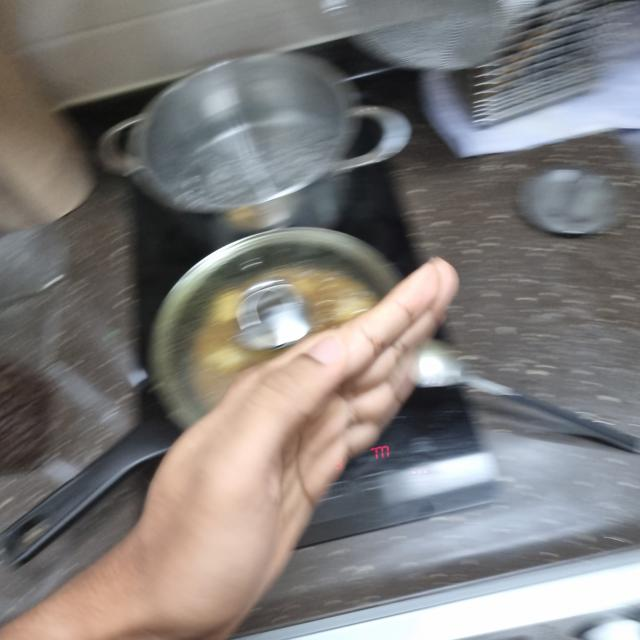Paper: (127, 259, 459, 636)
